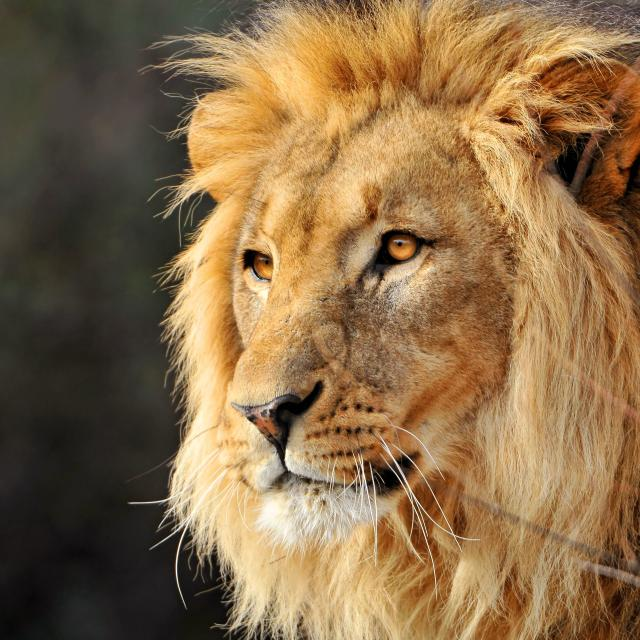Lion: (128, 0, 639, 639)
